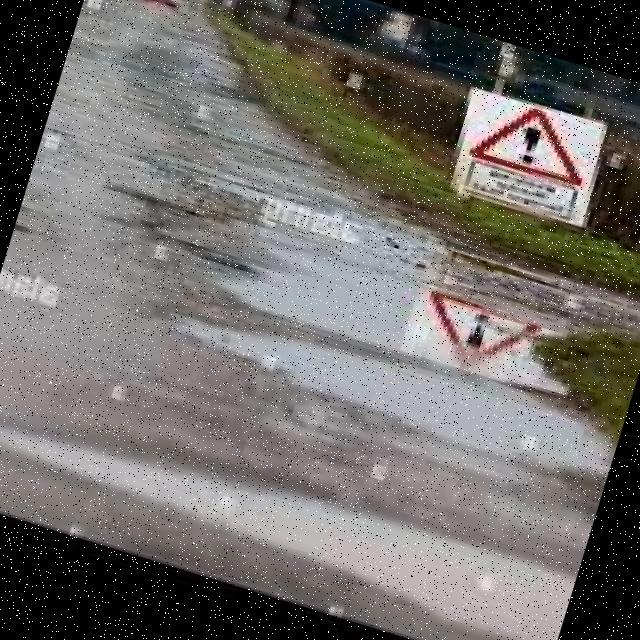warning: (466, 94, 600, 191)
